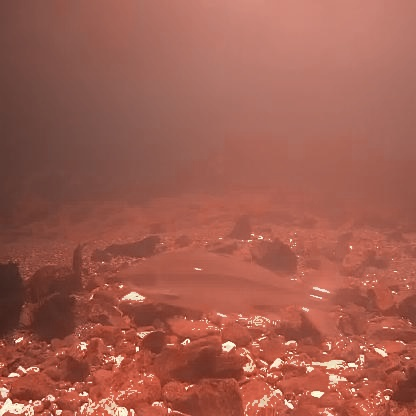salmon: (116, 238, 345, 342)
